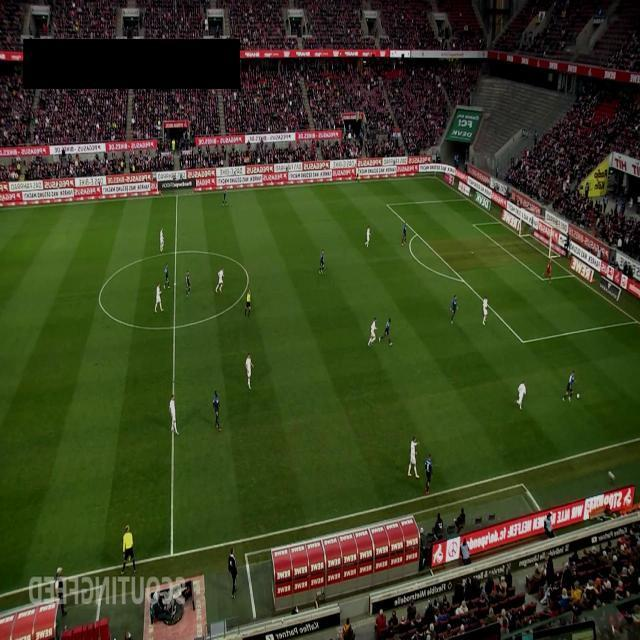Ball: (576, 392, 580, 400)
Corner: (432, 154, 441, 180)
GoalKeeper: (542, 259, 552, 285)
Referee: (121, 524, 137, 574), (244, 287, 252, 318), (356, 167, 362, 184)
TEAM 1: (168, 394, 180, 436), (408, 436, 420, 478), (245, 352, 255, 390), (514, 380, 526, 410), (368, 316, 378, 348), (154, 282, 164, 312), (216, 267, 224, 293), (482, 296, 488, 326), (364, 225, 370, 248), (160, 228, 164, 252)
TEAM 2: (562, 369, 576, 403), (379, 317, 393, 346), (212, 390, 222, 430), (425, 452, 433, 494), (450, 294, 458, 326), (163, 262, 170, 288), (401, 222, 407, 245), (222, 188, 228, 206), (186, 270, 190, 296), (320, 249, 324, 275)
